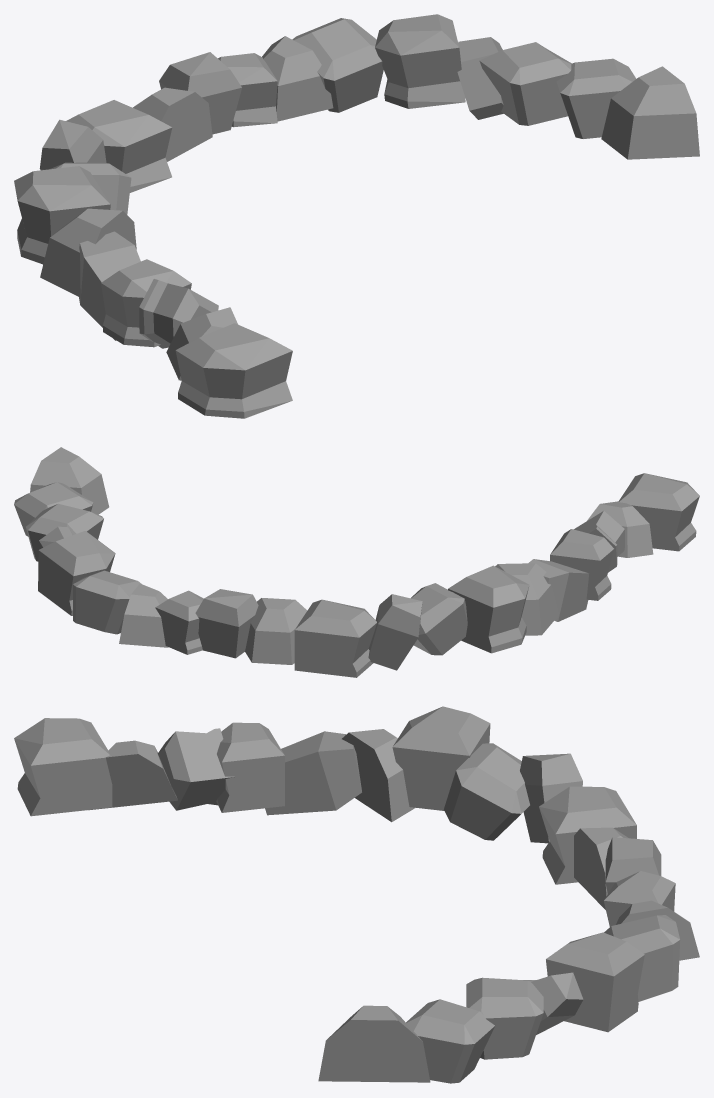
The model's file is Lake_stones.fbx.
The picture shows the model from 3 angles, top to bottom: view 1: azimuth 30°, elevation 25°; view 2: azimuth 150°, elevation 25°; view 3: azimuth 270°, elevation 25°; orthographic projection. The views are drawn at different scales.
Parts seen in each view (by area): view 1: Lake_stones; view 2: Lake_stones; view 3: Lake_stones.
Boxes of the visible parts, bbox=[...] form: Lake_stones: bbox=[14, 14, 699, 418]; Lake_stones: bbox=[14, 447, 699, 677]; Lake_stones: bbox=[14, 706, 699, 1083].
Bounding box in the file's own units: 584 × 81.87 × 535.
